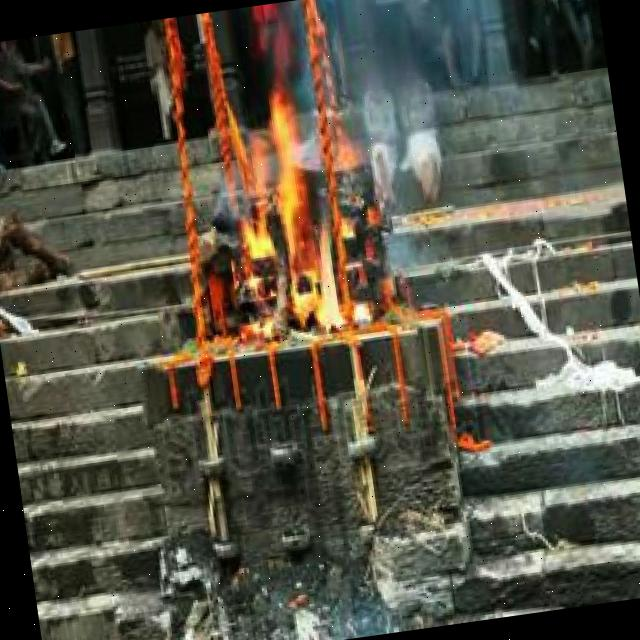fire: (222, 88, 366, 338)
